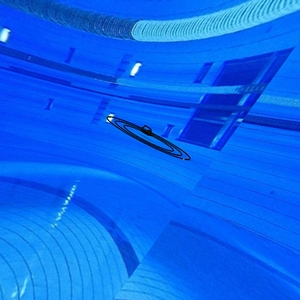circle: (105, 113, 196, 174)
submarine: (140, 124, 155, 141)
